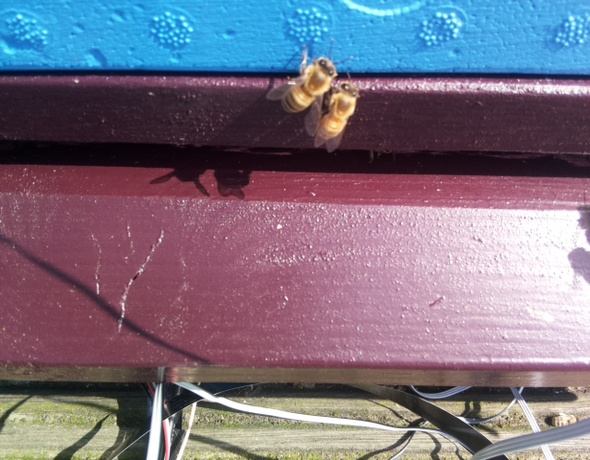no_pollen: (279, 55, 339, 116), (312, 77, 360, 147)
